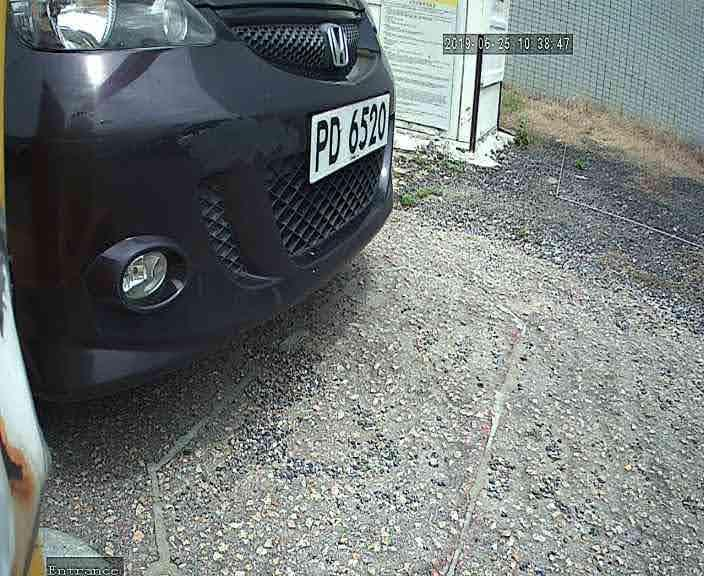privatecar: (1, 1, 401, 419)
